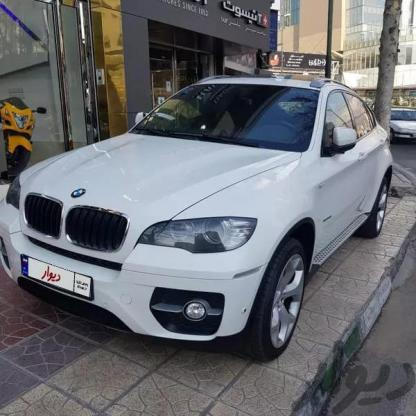Car: (0, 62, 395, 356), (364, 84, 416, 161)
